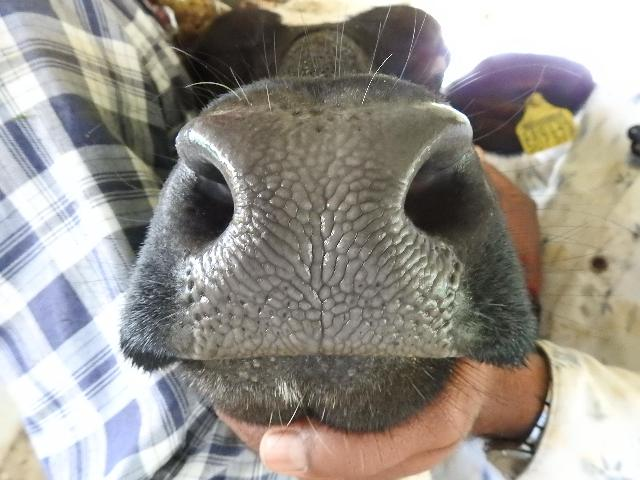Muzzle: (214, 111, 416, 355)
